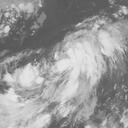cyclone: (33, 29, 108, 117)
